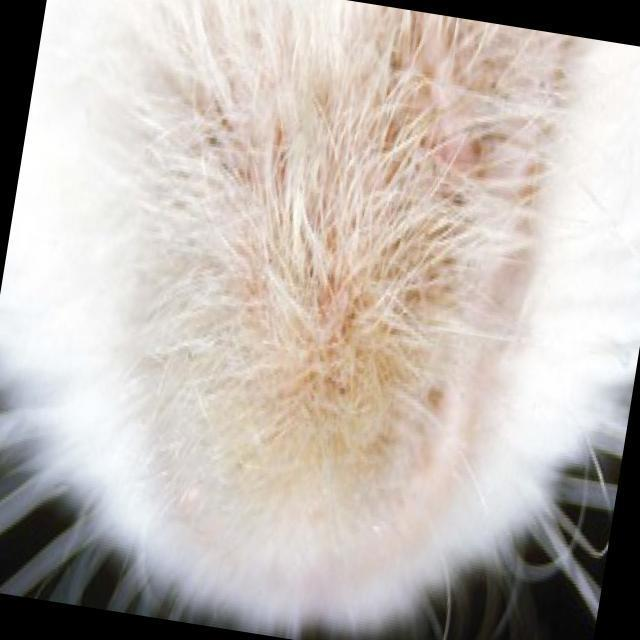fungal infection: (241, 194, 462, 481)
